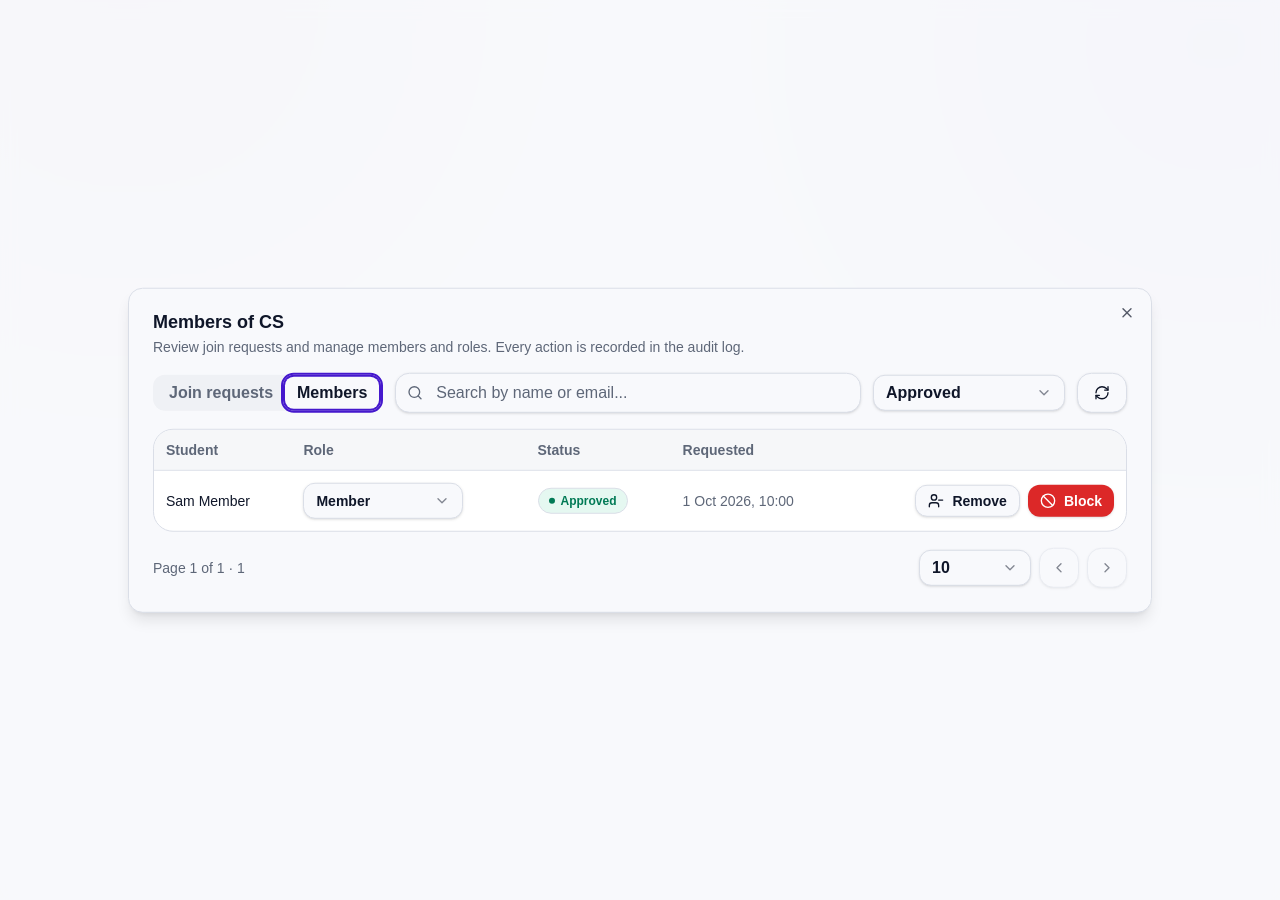
Test: members panel › no longer reviews join requests inside the dialog: the requests tab points to the dedicated screen
The width and height of the screenshot is (1280, 900).
Expected: the text "Approved" is shown, [538, 487, 628, 513]
Click the tab "Join requests": (221, 393) [157, 377, 285, 409]
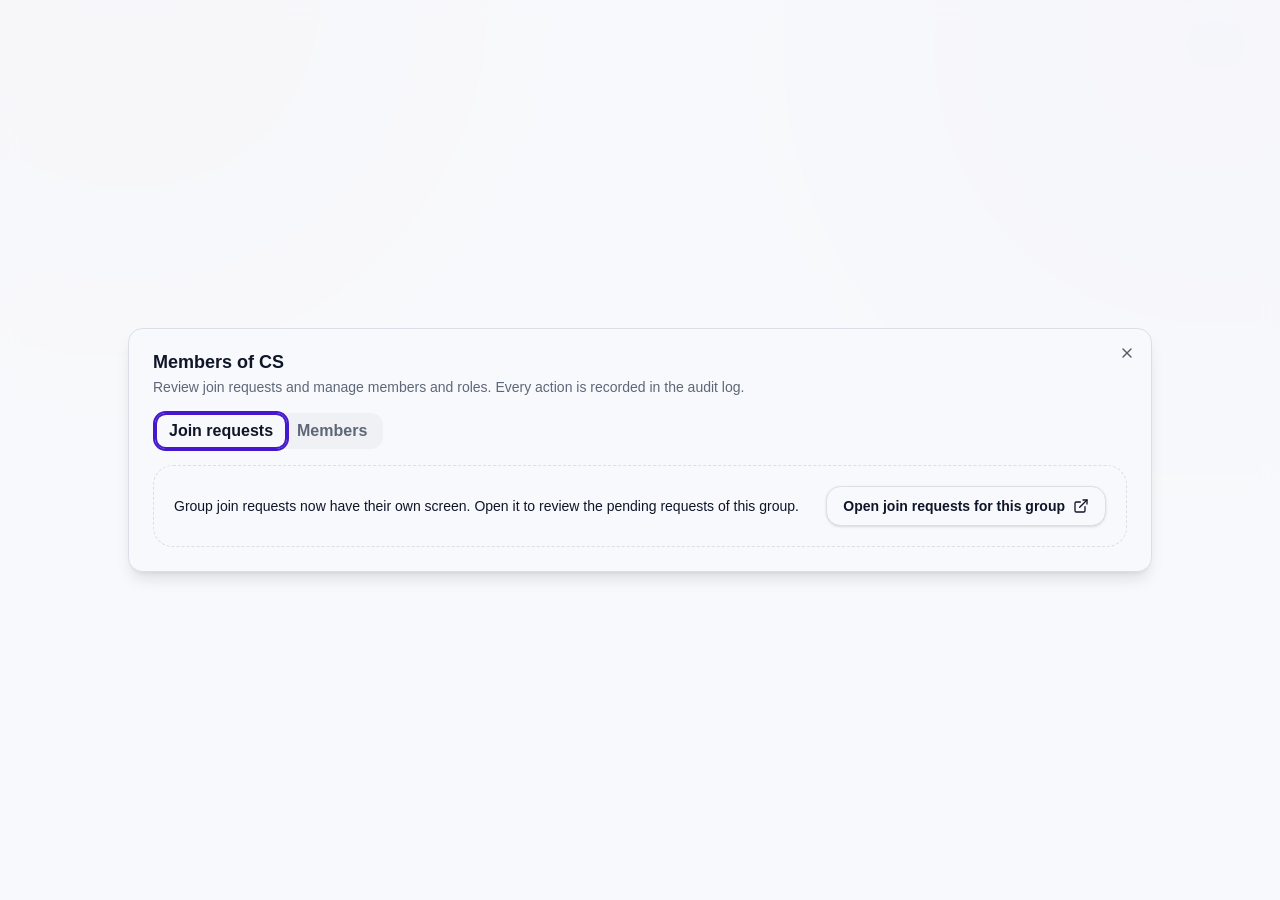
Now the dropdown labelled "Approve" is gone
